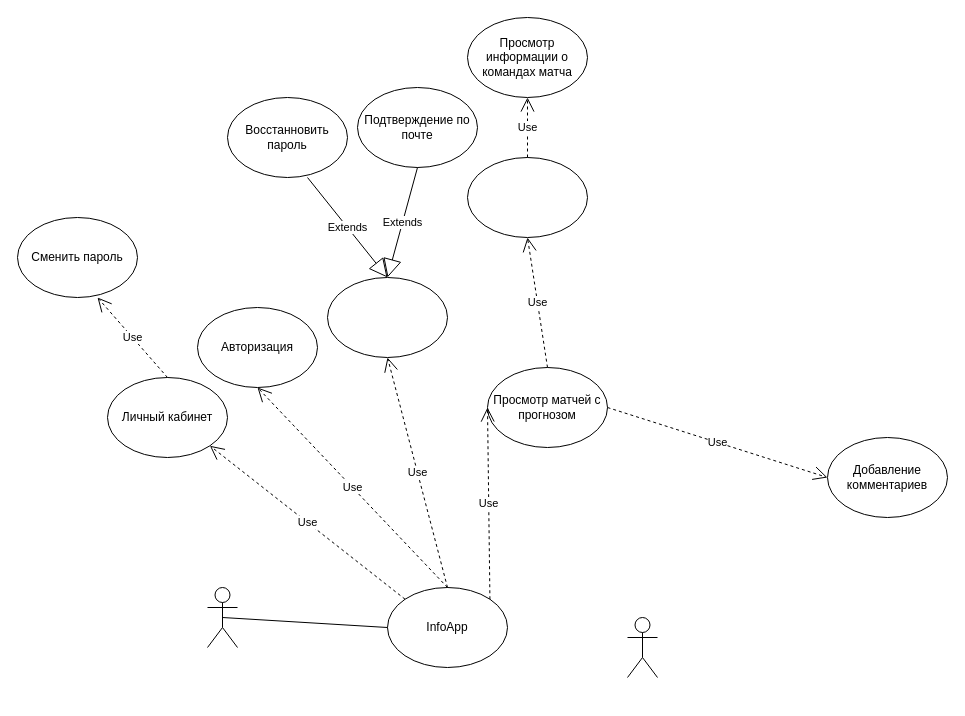
This 965x716 diagram has some shape labels left out. The centre of each missing label's shape, as x and y in pixels:
"Admin" belongs at (x=642, y=647).
"User" belongs at (x=222, y=617).
"Просмотр соответствующего матча" belongs at (x=527, y=197).
"Регистрация" belongs at (x=387, y=317).
